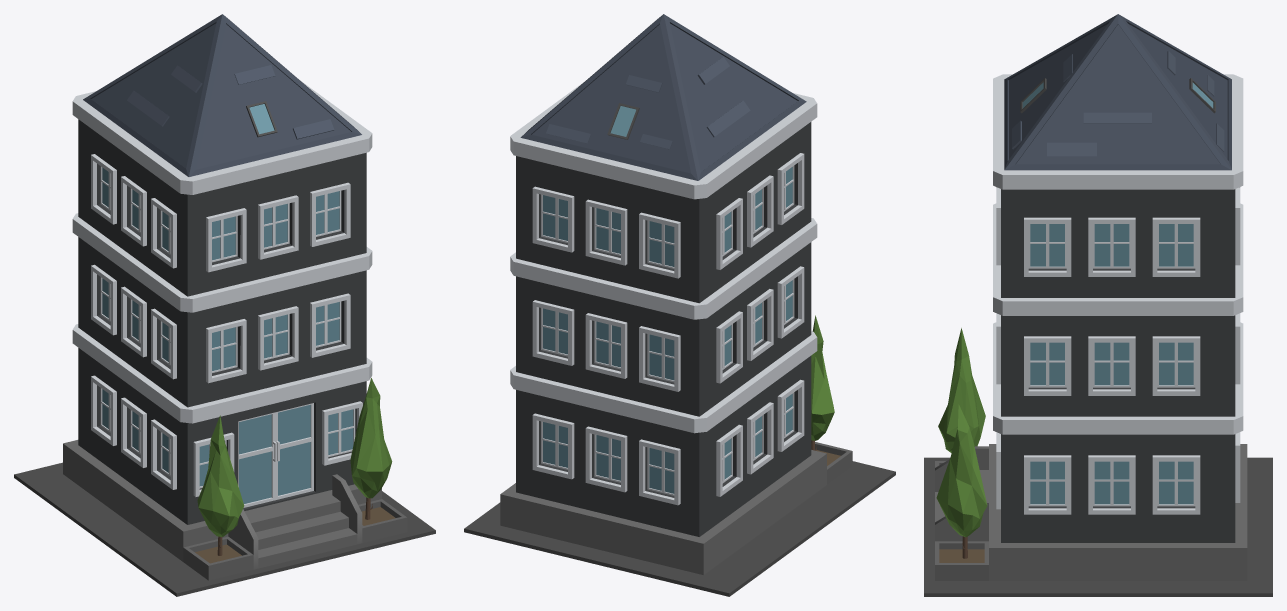
File: building1.glb
3 renders of one model, left to right at view 1: azimuth 30°, elevation 25°; view 2: azimuth 150°, elevation 25°; view 3: azimuth 270°, elevation 25°, orthographic. The views are drawn at different scales.
Parts seen in each view (by area): view 1: lph06837; view 2: lph06837; view 3: lph06837.
Part boxes in pixels (x1,y1,x2,y2): lph06837: (14, 14, 435, 596); lph06837: (464, 14, 895, 596); lph06837: (924, 14, 1272, 596).
Size of the model in its own units: 1.99 by 3.55 by 2.16.
